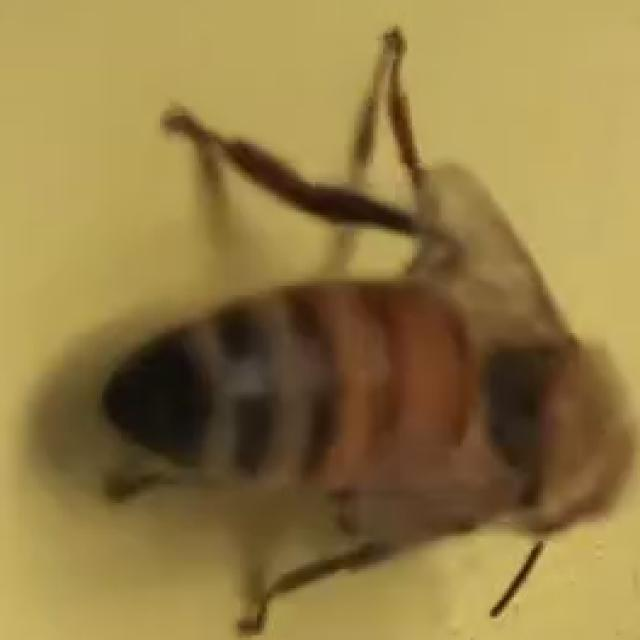honeybee: (97, 178, 640, 580)
